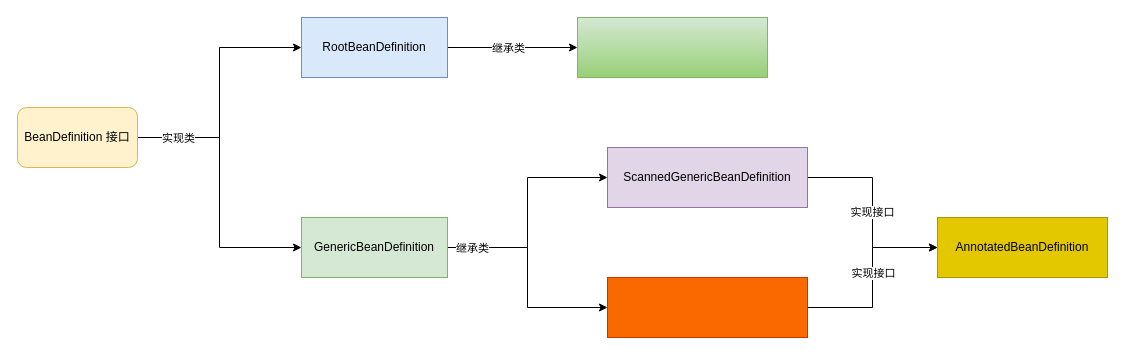
Some shapes in this 1125 by 355 pixel diagram are drawn without their labels. The box of each missing label's shape, as (x1, y1, x2, y2) in pixels:
AnnotatedGenericBeanDefinition: (606, 276, 808, 338)
ConfigurationClassBeanDefinition: (576, 16, 768, 78)
